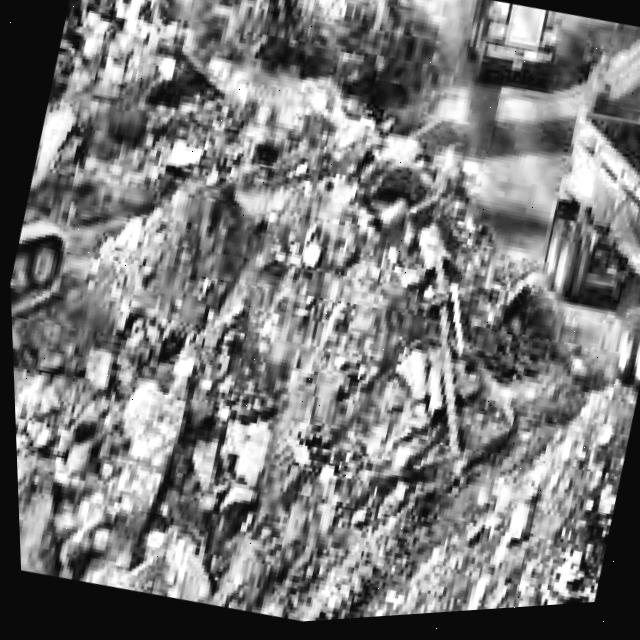dump_truck: (496, 109, 640, 437), (450, 0, 559, 103)
